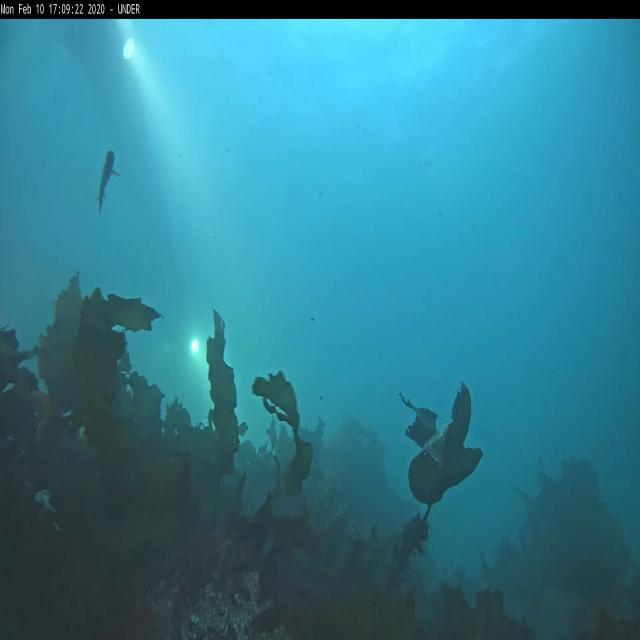fish: (98, 148, 120, 212)
